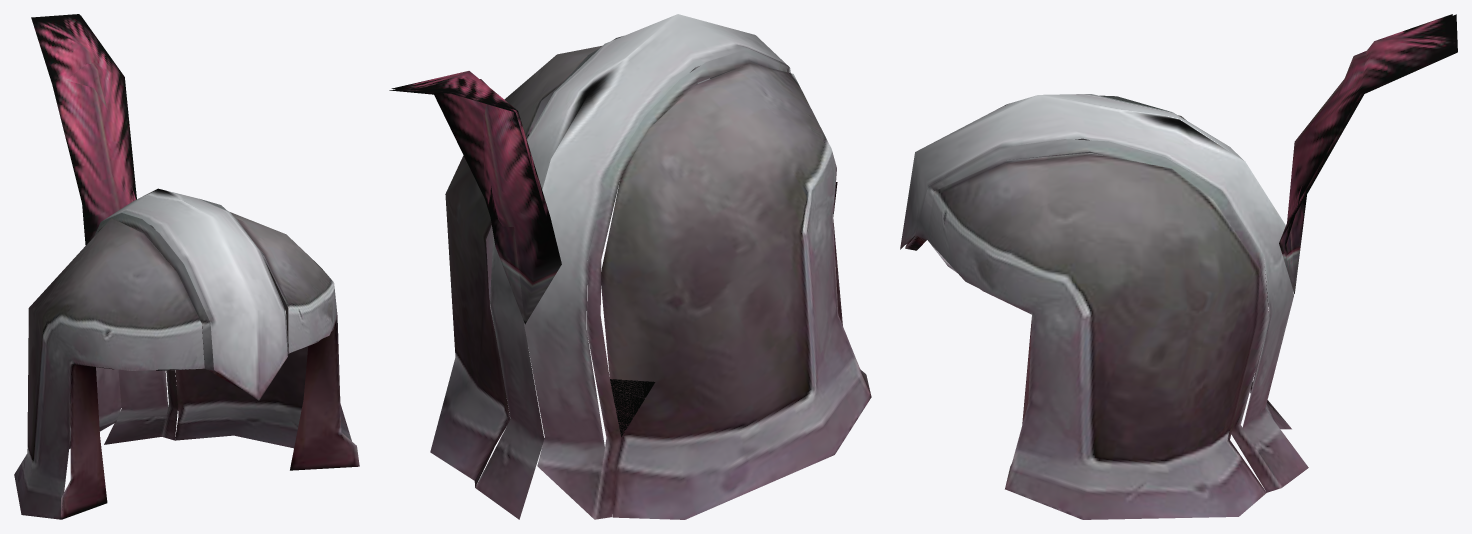
The model's file is Helmet.glb.
The picture shows the model from 3 angles, left to right: view 1: azimuth 30°, elevation 25°; view 2: azimuth 150°, elevation 25°; view 3: azimuth 270°, elevation 25°; orthographic projection. The views are drawn at different scales.
Visible parts, largest first — view 1: untitled.010; view 2: untitled.010; view 3: untitled.010.
Boxes of the visible parts, bbox=[...] form: untitled.010: bbox=[14, 14, 359, 519]; untitled.010: bbox=[389, 14, 871, 519]; untitled.010: bbox=[900, 14, 1457, 519].
Bounding box in the file's own units: 1.3 × 1.56 × 1.76.
1 material, 1 textured.
